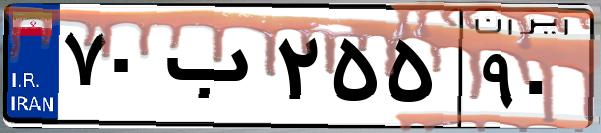0: (525, 38, 570, 115), (110, 28, 158, 98)
2: (270, 28, 330, 110)
5: (385, 28, 445, 110), (330, 28, 385, 110)
7: (57, 26, 110, 100)
9: (475, 38, 525, 113)
ب: (158, 20, 270, 120)
